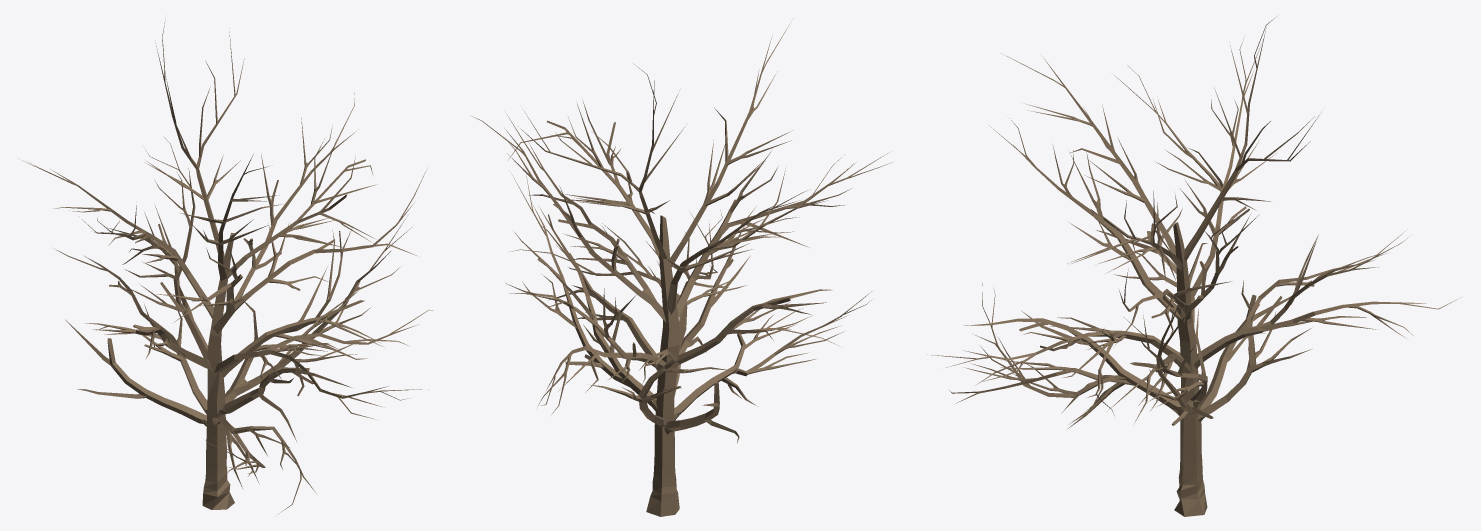
File: tree_bare_a_16.FBX
3 views of the same model, side by side, from view 1: azimuth 30°, elevation 25°; view 2: azimuth 150°, elevation 25°; view 3: azimuth 270°, elevation 25° (orthographic). The views are drawn at different scales.
Parts seen in each view (by area): view 1: tree_bare_a_16; view 2: tree_bare_a_16; view 3: tree_bare_a_16.
Boxes of the visible parts, <box> form: tree_bare_a_16: <box>22,17,433,513</box>; tree_bare_a_16: <box>471,19,892,516</box>; tree_bare_a_16: <box>927,18,1461,516</box>.
Size of the model in its own units: 8.08 by 10.06 by 10.04.
